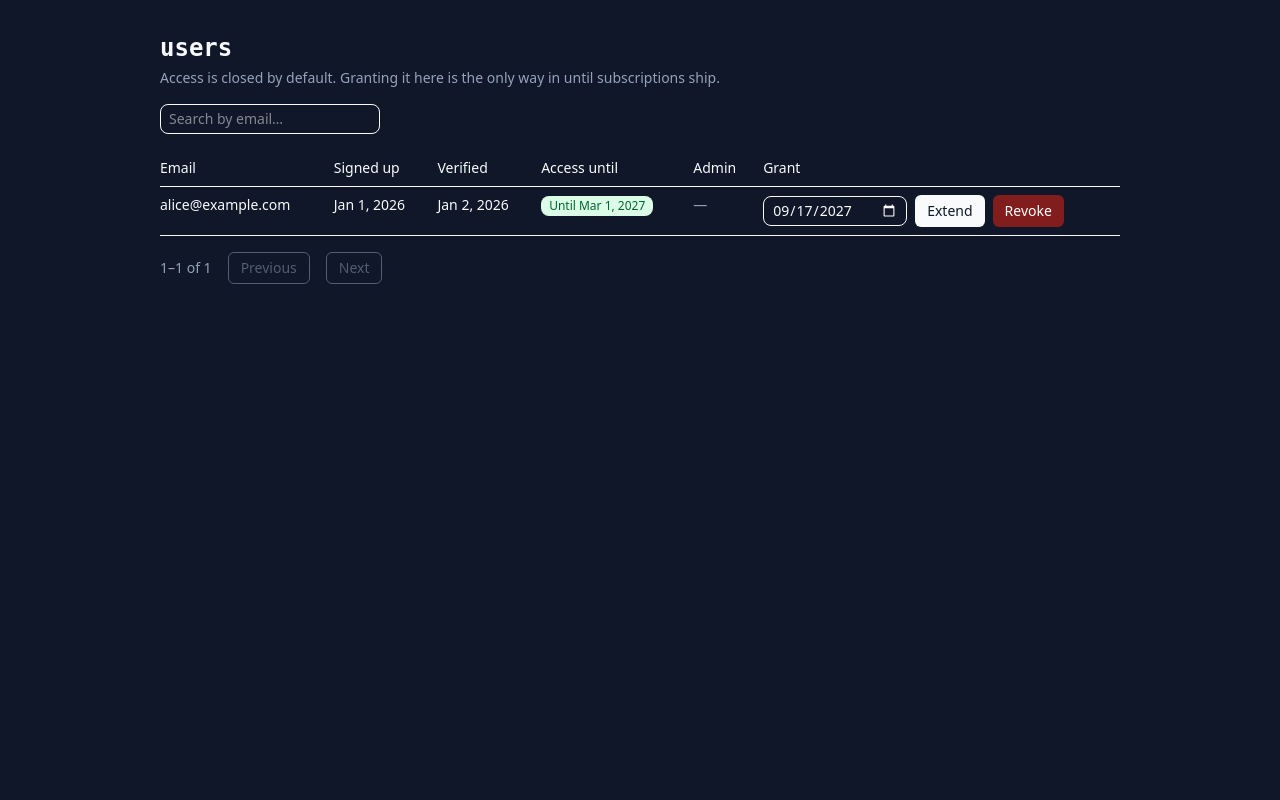
it: AdminUsers › revokes only after the confirm is accepted
This screenshot has width=1280, height=800.
What coordinates should you click on to do the following:
click the button with aria-label "Revoke access for alice@example.com"
I would click on:
 (1028, 211)
Its box is [993,195,1064,227].
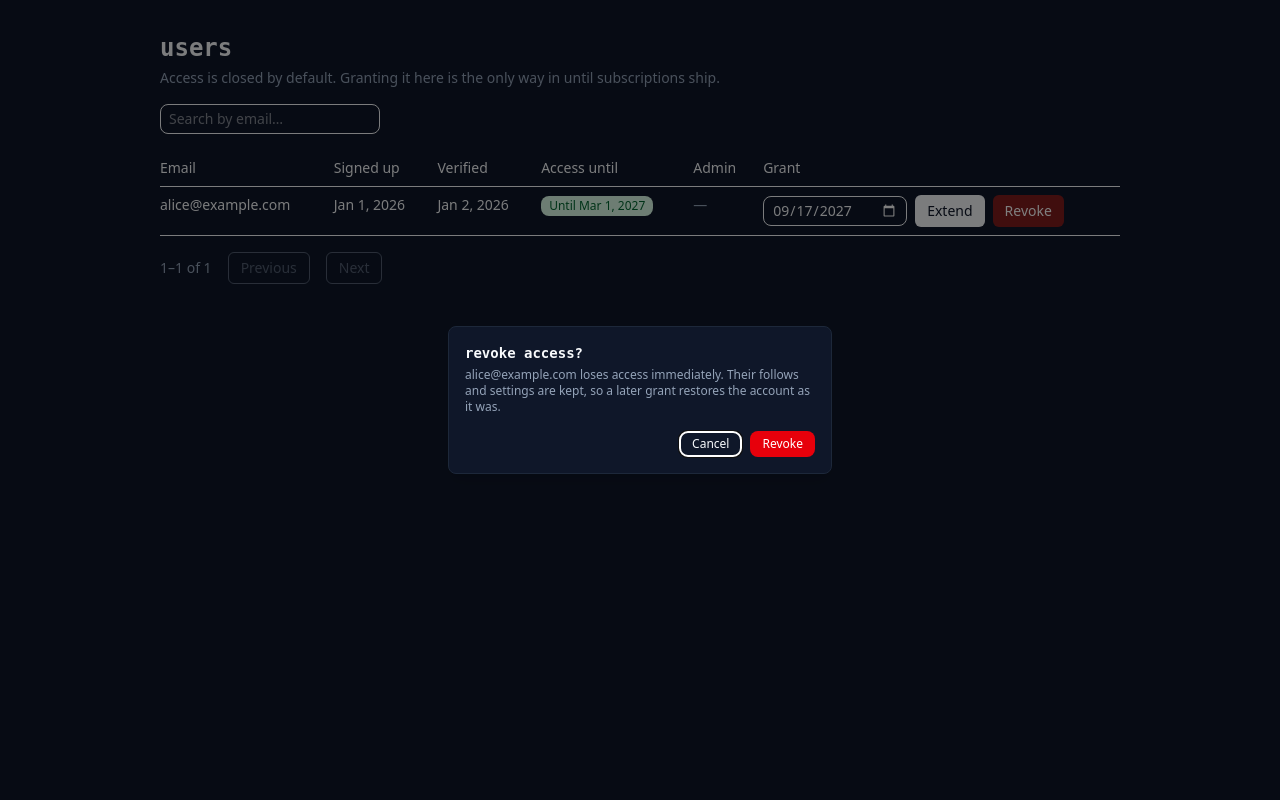
What coordinates should you click on to do the following:
click the button "Revoke"
I would click on:
 (783, 444)
Its box is [750,431,815,457].
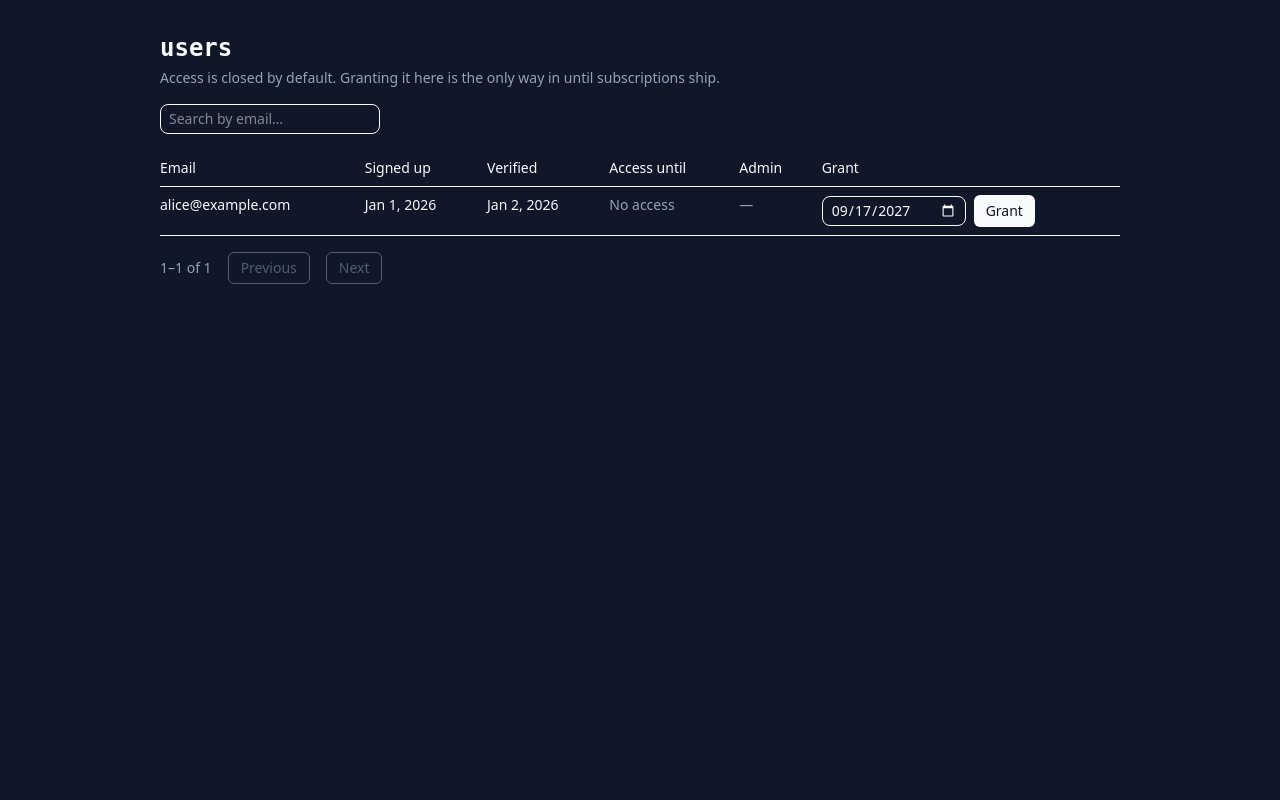
expect the text "No access" is shown: met, box [609,195,675,214]
